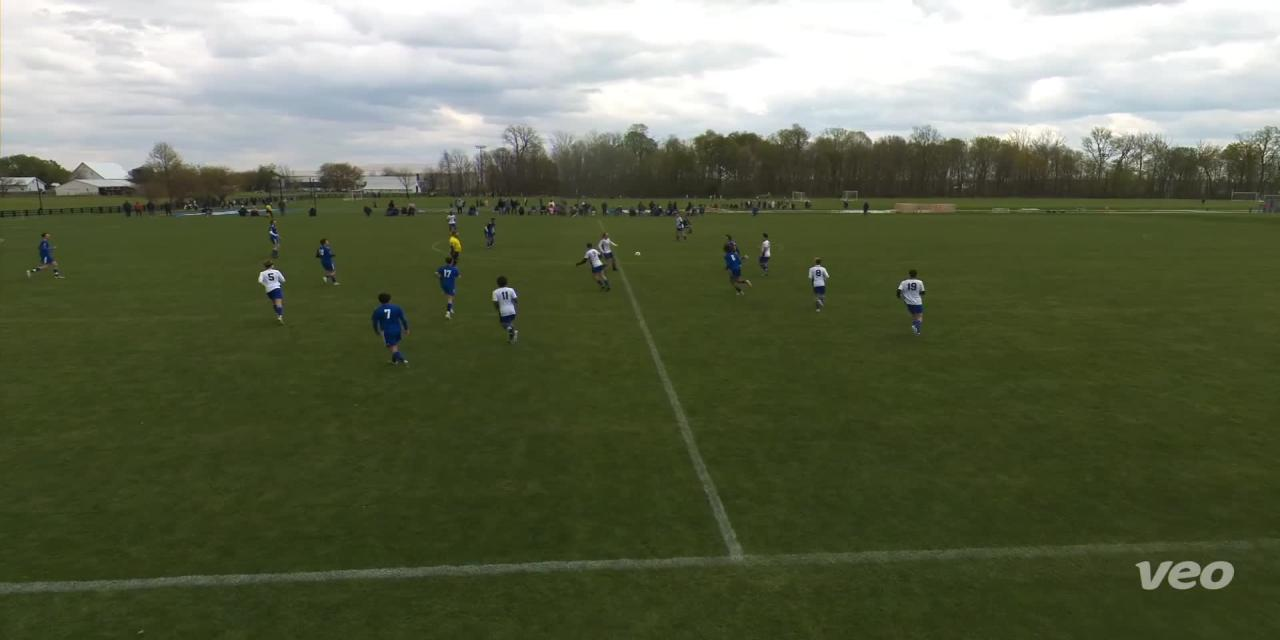sports ball: (630, 247, 646, 261)
